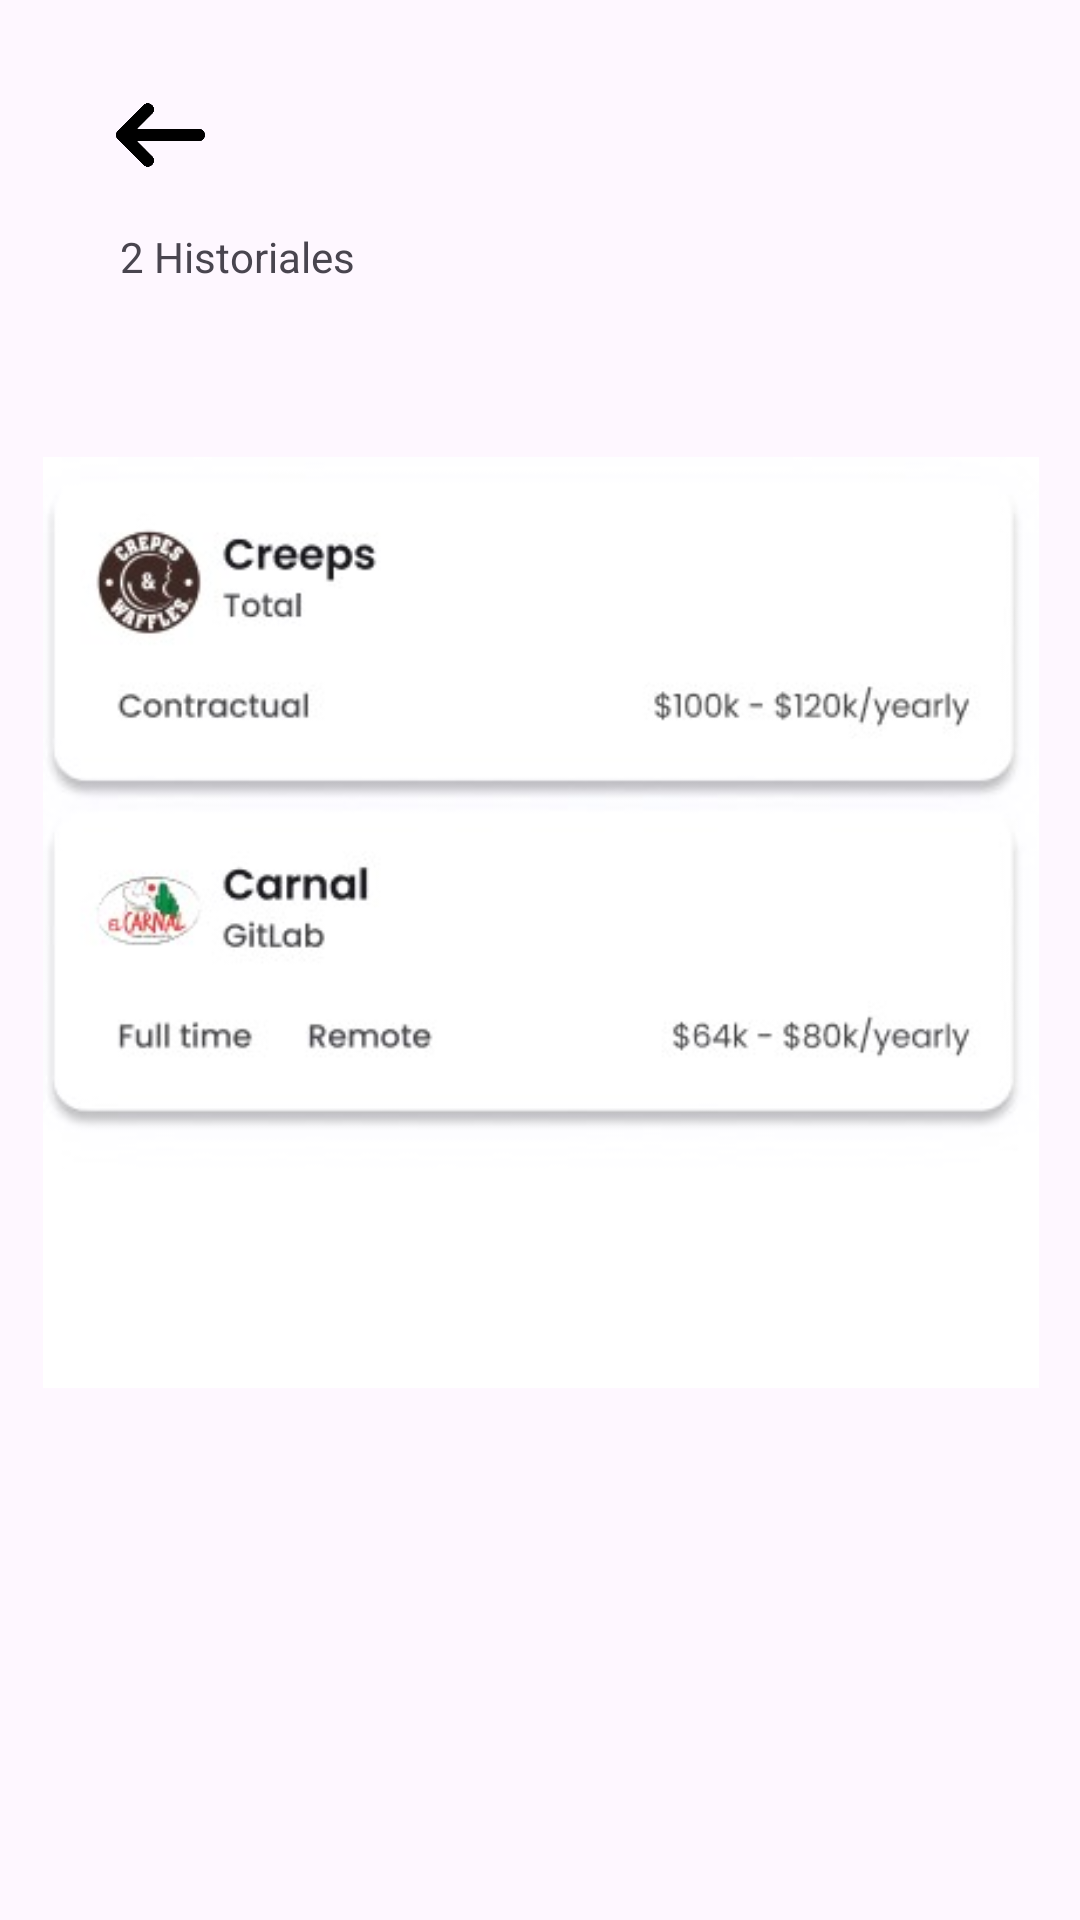

Screen size 1080x1920. Icon name, then its center in pixels as (x=x, y=y):
back: (x=160, y=135)
